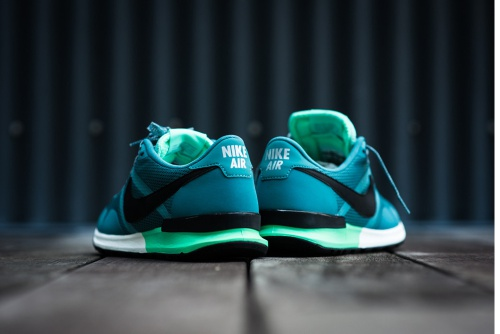nike: (121, 165, 223, 221), (299, 166, 380, 219)
